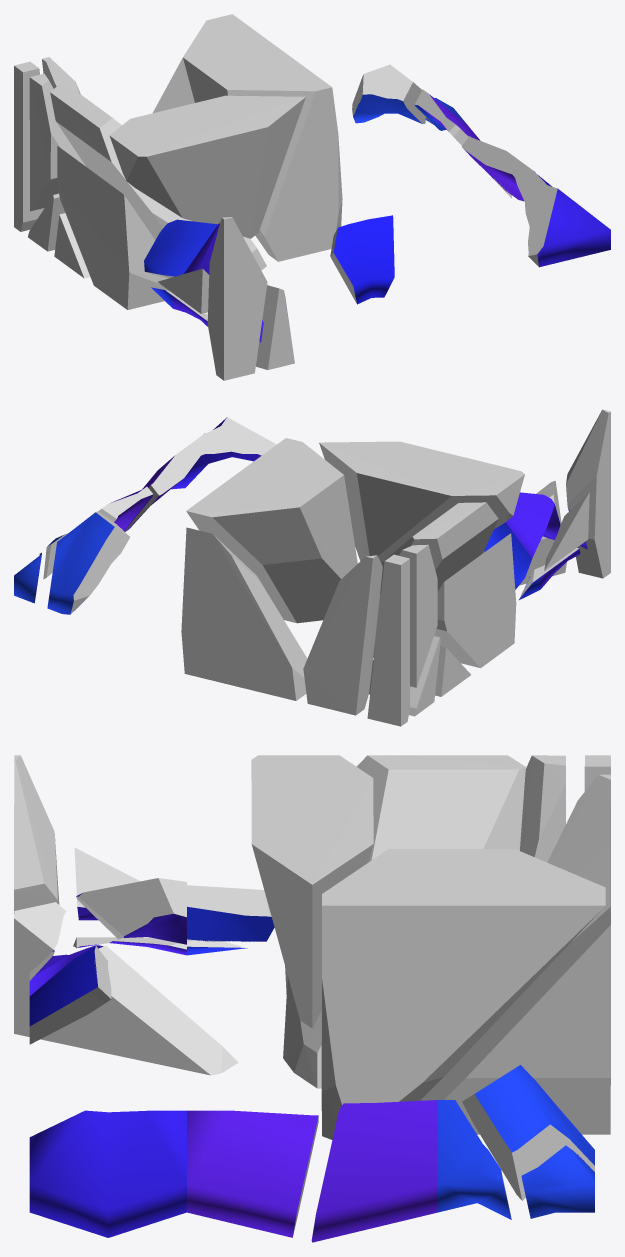
File: Structure_Tower_Knight_Human_03_debris_cells_external_walls_rooftop_02.fbx
3 views of the same model, one above another, from view 1: azimuth 30°, elevation 25°; view 2: azimuth 150°, elevation 25°; view 3: azimuth 270°, elevation 25° (orthographic). The views are drawn at different scales.
Parts seen in each view (by area): view 1: Structure_Tower_Knight_Human_03.012_cell.010, Structure_Tower_Knight_Human_03.012_cell.004, Structure_Tower_Knight_Human_03.012_cell.033, Structure_Tower_Knight_Human_03.012_cell.020, Structure_Tower_Knight_Human_03.012_cell, Structure_Tower_Knight_Human_03.012_cell.029, Structure_Tower_Knight_Human_03.012_cell.018, Structure_Tower_Knight_Human_03.012_cell.025, Structure_Tower_Knight_Human_03.012_cell.022, Structure_Tower_Knight_Human_03.012_cell.015, Structure_Tower_Knight_Human_03.012_cell.023, Structure_Tower_Knight_Human_03.012_cell.006 (+7 smaller); view 2: Structure_Tower_Knight_Human_03.012_cell.004, Structure_Tower_Knight_Human_03.012_cell.007, Structure_Tower_Knight_Human_03.012_cell.010, Structure_Tower_Knight_Human_03.012_cell.014, Structure_Tower_Knight_Human_03.012_cell.033, Structure_Tower_Knight_Human_03.012_cell.023, Structure_Tower_Knight_Human_03.012_cell.020, Structure_Tower_Knight_Human_03.012_cell.015, Structure_Tower_Knight_Human_03.012_cell.029, Structure_Tower_Knight_Human_03.012_cell, Structure_Tower_Knight_Human_03.012_cell.025, Structure_Tower_Knight_Human_03.012_cell.022 (+7 smaller); view 3: Structure_Tower_Knight_Human_03.012_cell.004, Structure_Tower_Knight_Human_03.012_cell, Structure_Tower_Knight_Human_03.012_cell.010, Structure_Tower_Knight_Human_03.012_cell.008, Structure_Tower_Knight_Human_03.012_cell.007, Structure_Tower_Knight_Human_03.012_cell.029, Structure_Tower_Knight_Human_03.012_cell.006, Structure_Tower_Knight_Human_03.012_cell.022, Structure_Tower_Knight_Human_03.012_cell.015, Structure_Tower_Knight_Human_03.012_cell.020, Structure_Tower_Knight_Human_03.012_cell.014, Structure_Tower_Knight_Human_03.012_cell.018 (+5 smaller).
Boxes of the visible parts, x1,y1,x2,y2 form: Structure_Tower_Knight_Human_03.012_cell.010: (109, 95, 305, 238); Structure_Tower_Knight_Human_03.012_cell.004: (183, 14, 342, 261); Structure_Tower_Knight_Human_03.012_cell.033: (57, 146, 169, 309); Structure_Tower_Knight_Human_03.012_cell.020: (207, 217, 267, 380); Structure_Tower_Knight_Human_03.012_cell: (461, 136, 610, 267); Structure_Tower_Knight_Human_03.012_cell.029: (50, 83, 266, 270); Structure_Tower_Knight_Human_03.012_cell.018: (330, 215, 394, 304); Structure_Tower_Knight_Human_03.012_cell.025: (29, 73, 85, 211); Structure_Tower_Knight_Human_03.012_cell.022: (144, 219, 219, 278); Structure_Tower_Knight_Human_03.012_cell.015: (352, 64, 425, 123); Structure_Tower_Knight_Human_03.012_cell.023: (14, 61, 44, 231); Structure_Tower_Knight_Human_03.012_cell.006: (256, 285, 294, 369); Structure_Tower_Knight_Human_03.012_cell.004: (186, 438, 357, 623); Structure_Tower_Knight_Human_03.012_cell.007: (181, 527, 307, 700); Structure_Tower_Knight_Human_03.012_cell.010: (319, 441, 524, 562); Structure_Tower_Knight_Human_03.012_cell.014: (303, 555, 382, 715); Structure_Tower_Knight_Human_03.012_cell.033: (434, 533, 516, 668); Structure_Tower_Knight_Human_03.012_cell.023: (367, 554, 409, 726); Structure_Tower_Knight_Human_03.012_cell.020: (566, 409, 610, 578); Structure_Tower_Knight_Human_03.012_cell.015: (47, 511, 130, 614); Structure_Tower_Knight_Human_03.012_cell.029: (373, 502, 498, 657); Structure_Tower_Knight_Human_03.012_cell: (124, 417, 276, 531); Structure_Tower_Knight_Human_03.012_cell.025: (399, 544, 437, 687); Structure_Tower_Knight_Human_03.012_cell.022: (482, 492, 554, 589); Structure_Tower_Knight_Human_03.012_cell.004: (321, 849, 605, 1139); Structure_Tower_Knight_Human_03.012_cell: (29, 1110, 318, 1237); Structure_Tower_Knight_Human_03.012_cell.010: (251, 755, 373, 1028); Structure_Tower_Knight_Human_03.012_cell.008: (311, 1100, 511, 1242); Structure_Tower_Knight_Human_03.012_cell.007: (420, 907, 610, 1134); Structure_Tower_Knight_Human_03.012_cell.029: (283, 755, 525, 1088); Structure_Tower_Knight_Human_03.012_cell.006: (14, 902, 238, 1075); Structure_Tower_Knight_Human_03.012_cell.022: (76, 878, 274, 944); Structure_Tower_Knight_Human_03.012_cell.015: (462, 1065, 594, 1200); Structure_Tower_Knight_Human_03.012_cell.020: (14, 755, 59, 980); Structure_Tower_Knight_Human_03.012_cell.014: (547, 774, 610, 940); Structure_Tower_Knight_Human_03.012_cell.018: (29, 946, 111, 1044).
Size of the model in its own units: 205 by 80.69 by 190.
